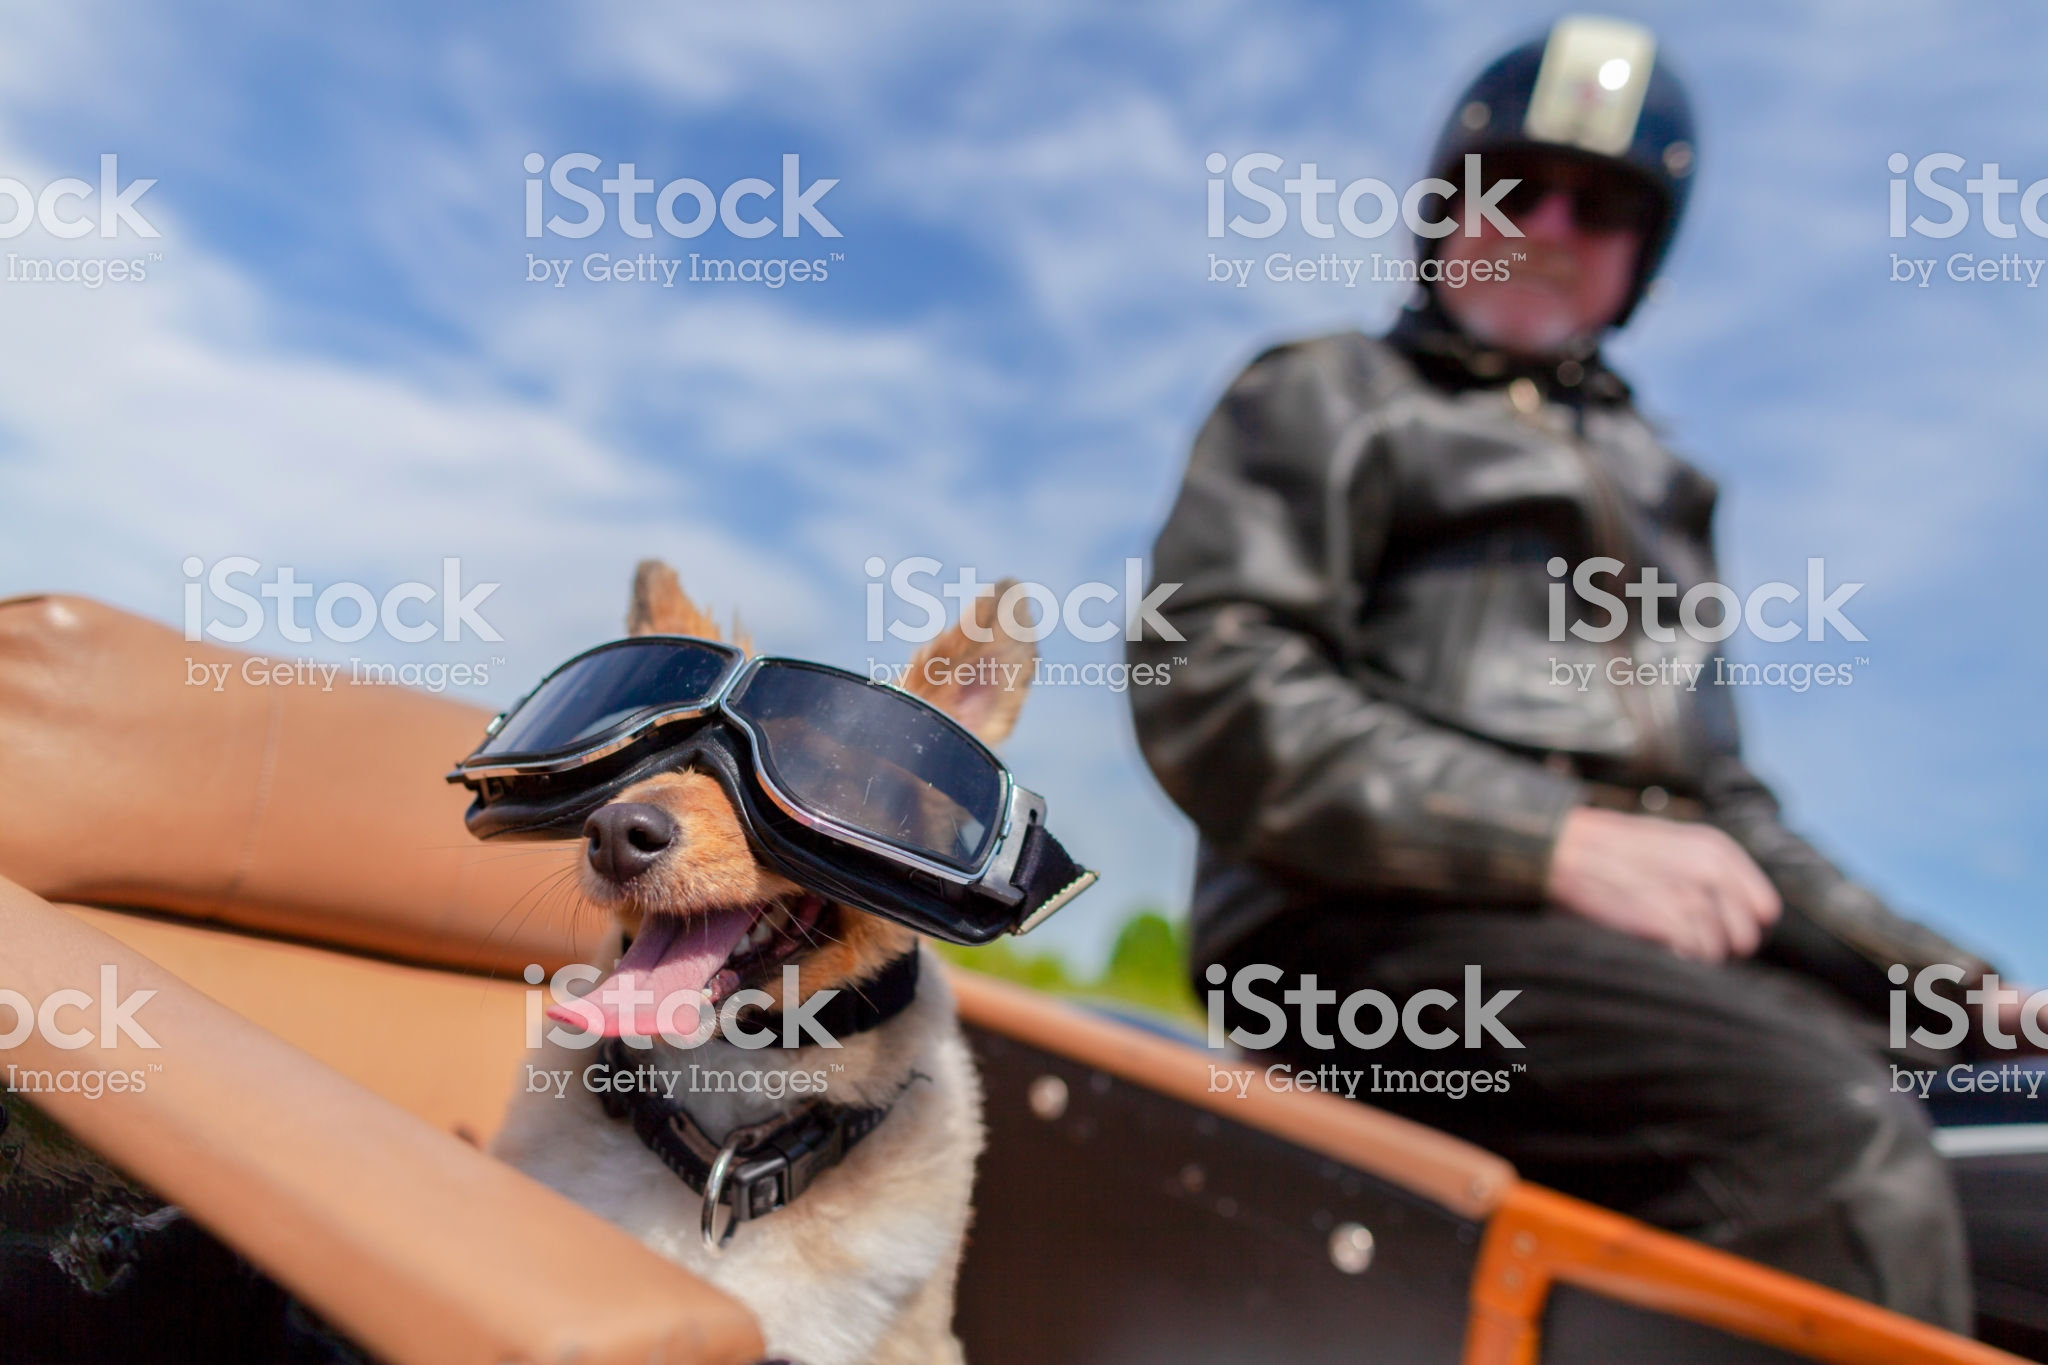helmet: (1418, 5, 1727, 227)
